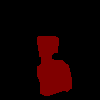vestito: (36, 36, 72, 96)
